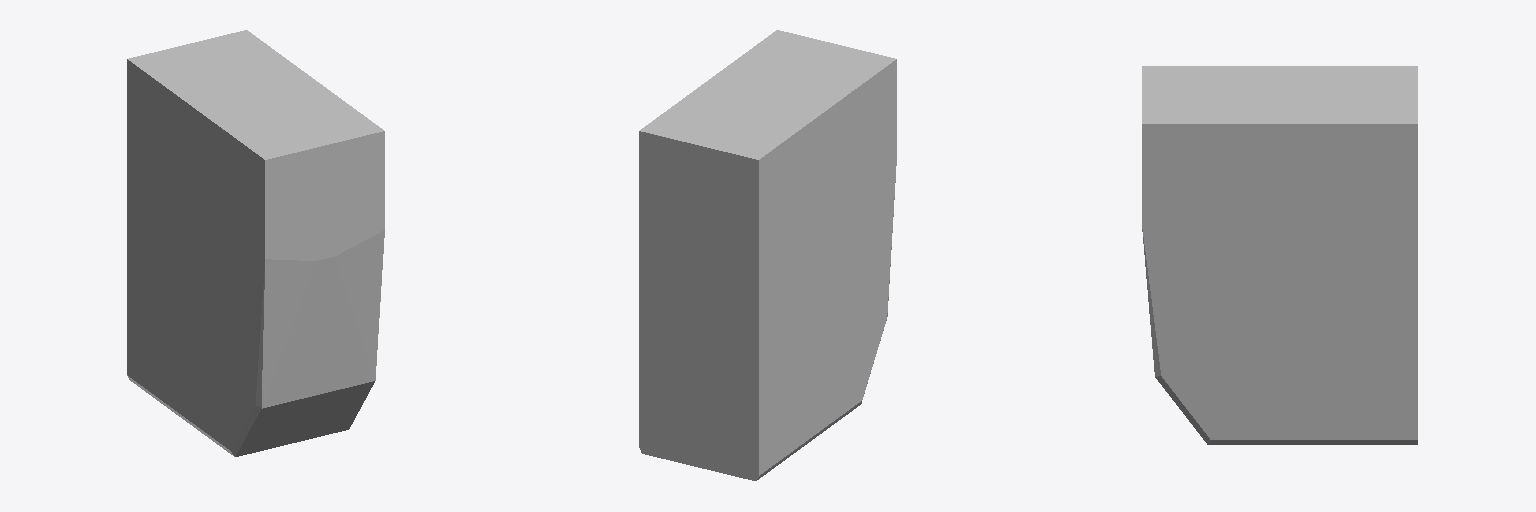
The model's file is 88_kwk36_breech.obj.
3 renders of one model, left to right at view 1: azimuth 30°, elevation 25°; view 2: azimuth 150°, elevation 25°; view 3: azimuth 270°, elevation 25°, orthographic.
Visible parts, largest first — view 1: Казённик; view 2: Казённик; view 3: Казённик.
Part boxes in pixels (bbox=[...]): Казённик: bbox=[127, 30, 384, 456]; Казённик: bbox=[639, 30, 896, 480]; Казённик: bbox=[1142, 66, 1417, 444].
Size of the model in its own units: 1 by 2.57 by 2.